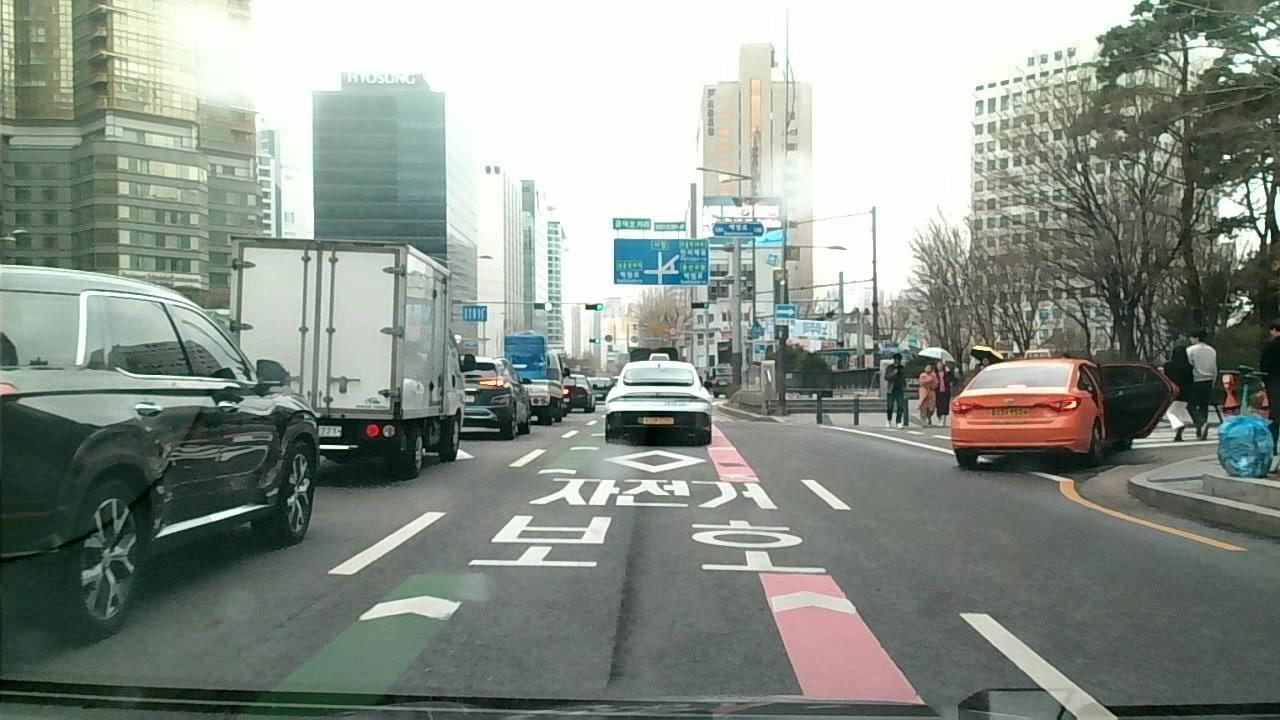banner: (603, 518, 640, 687), (1211, 410, 1277, 483)
